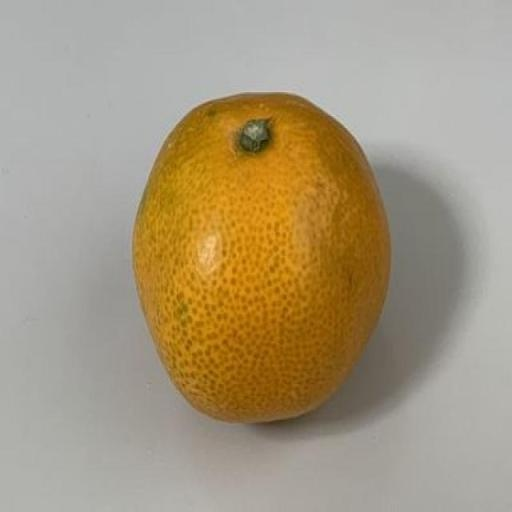fruit: (133, 94, 388, 422)
